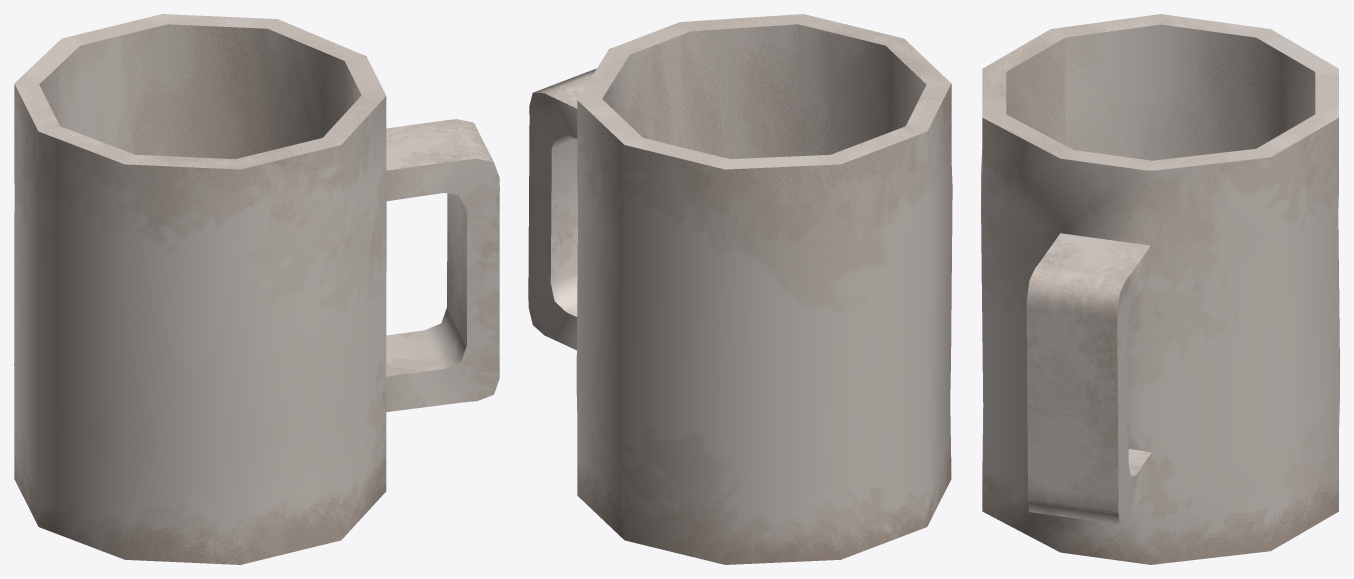
File: Kitchen_Mug.fbx
The picture shows the model from 3 angles, left to right: view 1: azimuth 30°, elevation 25°; view 2: azimuth 150°, elevation 25°; view 3: azimuth 270°, elevation 25°; orthographic projection.
Visible parts, largest first — view 1: Cylinder001; view 2: Cylinder001; view 3: Cylinder001.
Part boxes in pixels (x1=…): Cylinder001: x1=14, y1=14, x2=499, y2=564; Cylinder001: x1=528, y1=14, x2=952, y2=564; Cylinder001: x1=981, y1=14, x2=1339, y2=564.
Size of the model in its own units: 94.61 by 85.01 by 70.18.
